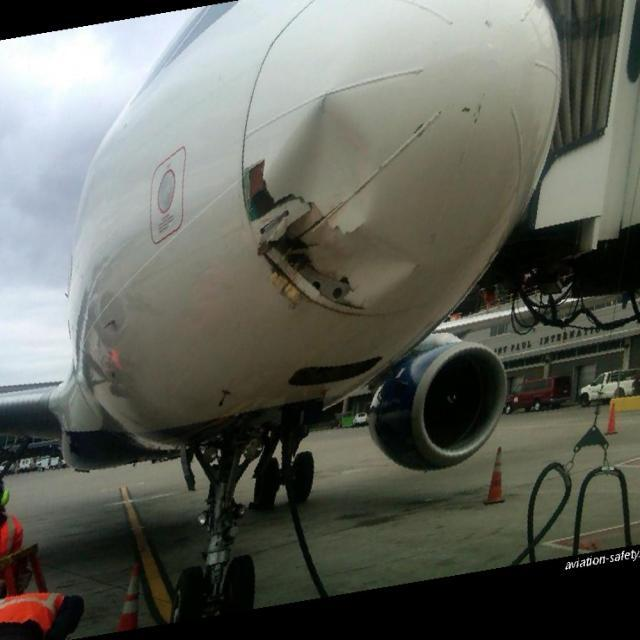dent: (266, 102, 375, 221), (354, 227, 417, 314)
